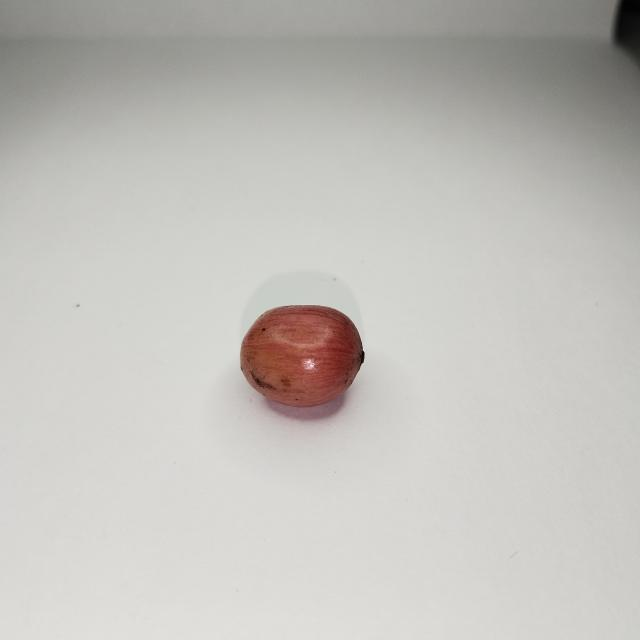Sano: (240, 305, 364, 413)
